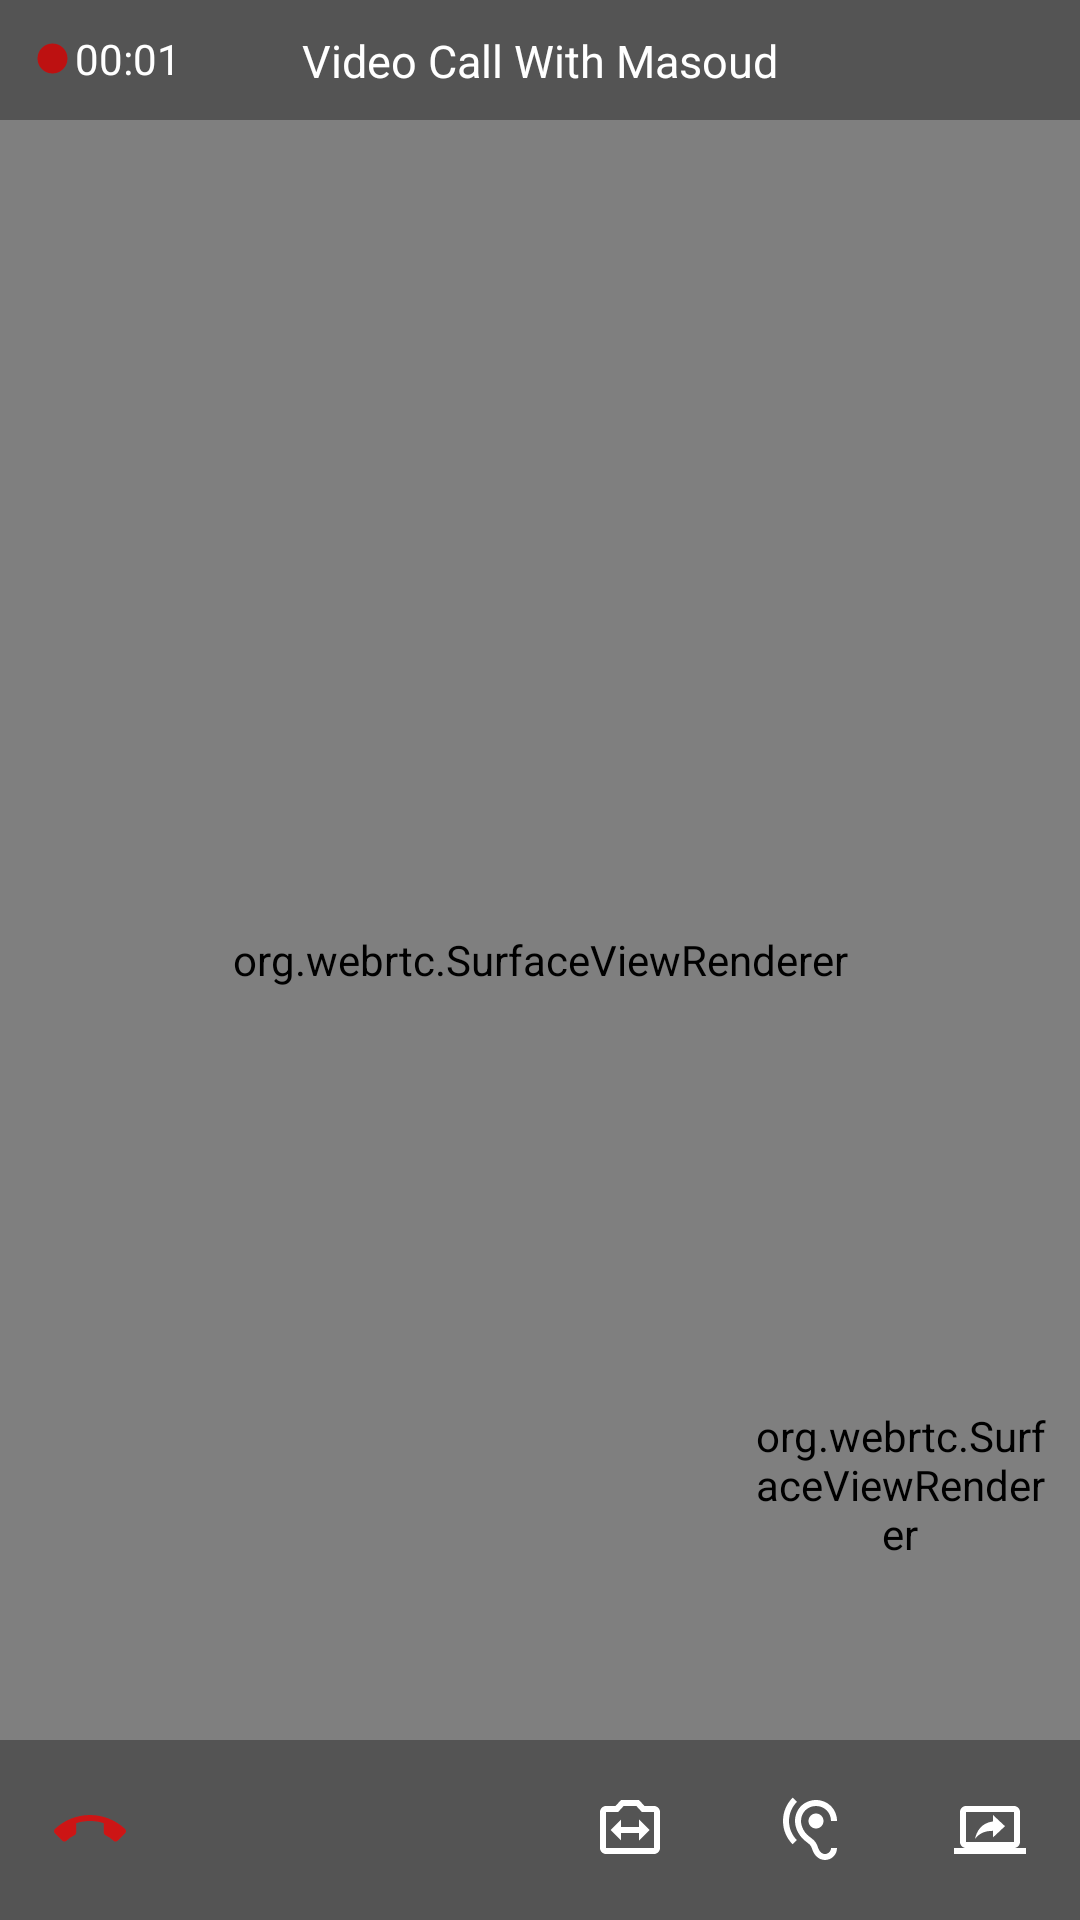

Named icons in this screenshot (1080px x 1920px) and their bounding boxes, (x1, y1, x2, y2):
ear: (783, 1798, 837, 1860)
end call: (54, 1815, 126, 1842)
screen share: (954, 1806, 1026, 1854)
switch camera: (600, 1800, 660, 1854)
